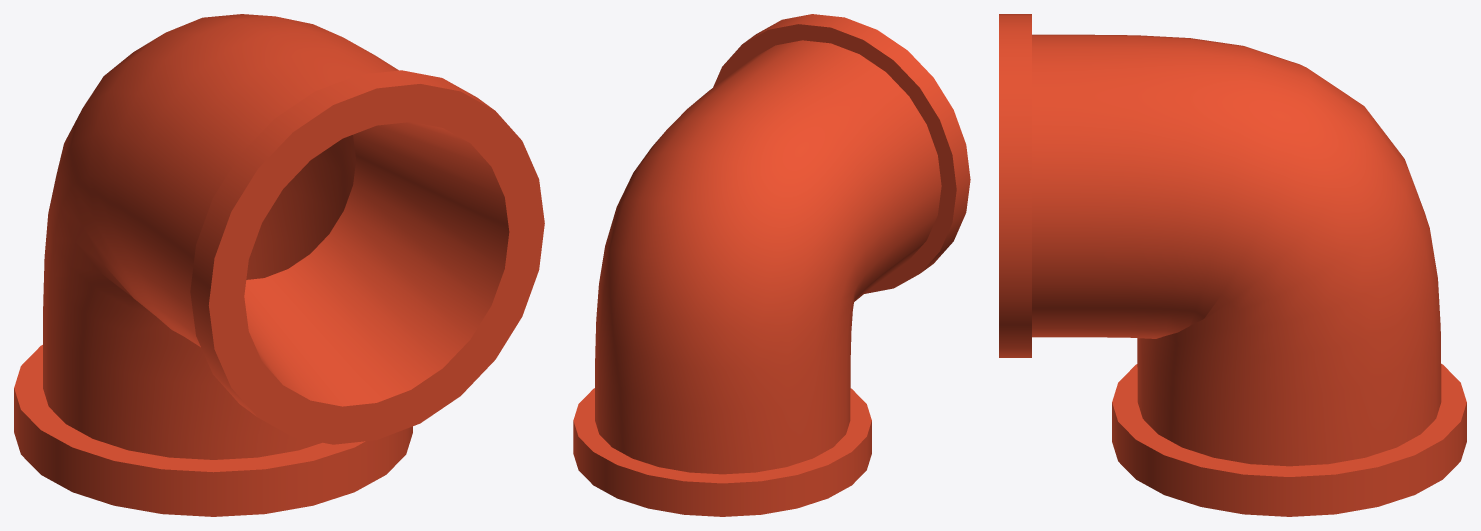
File: tunnel.fbx
3 views of the same model, side by side, from view 1: azimuth 30°, elevation 25°; view 2: azimuth 150°, elevation 25°; view 3: azimuth 270°, elevation 25° (orthographic). The views are drawn at different scales.
Parts seen in each view (by area): view 1: tunnel; view 2: tunnel; view 3: tunnel.
Boxes of the visible parts, bbox=[...] form: tunnel: bbox=[14, 14, 544, 516]; tunnel: bbox=[573, 14, 970, 516]; tunnel: bbox=[999, 14, 1466, 516].
Size of the model in its own units: 336 by 431 by 443.
